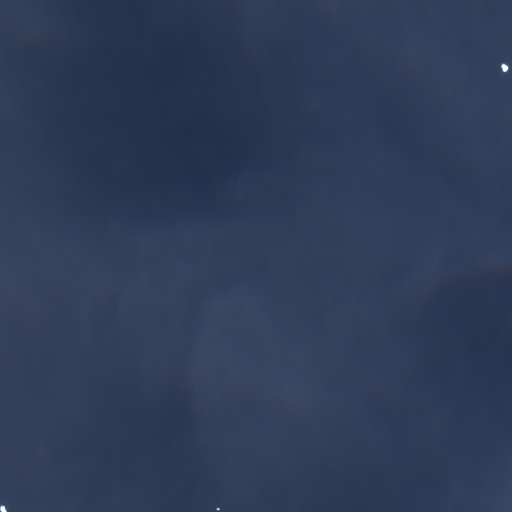Iceberg: (501, 63, 508, 71), (0, 505, 6, 511), (216, 507, 219, 510)
